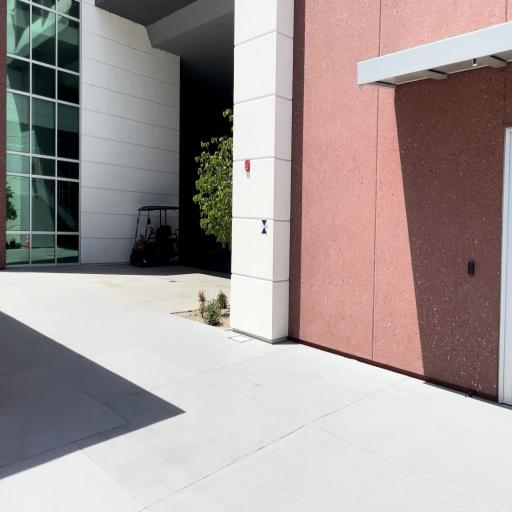target9: (261, 220, 268, 235)
